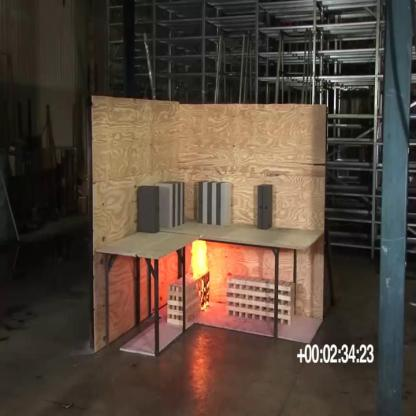fire: (188, 237, 214, 314)
